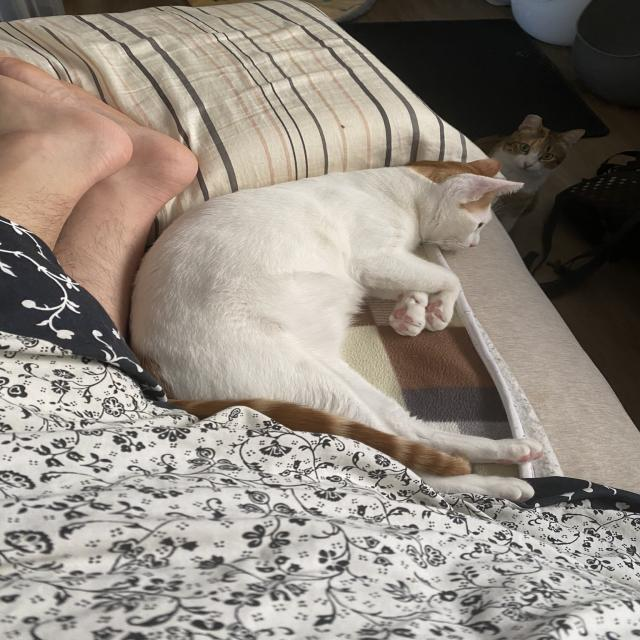cat1: (130, 154, 548, 511)
cat2: (480, 112, 587, 219)
